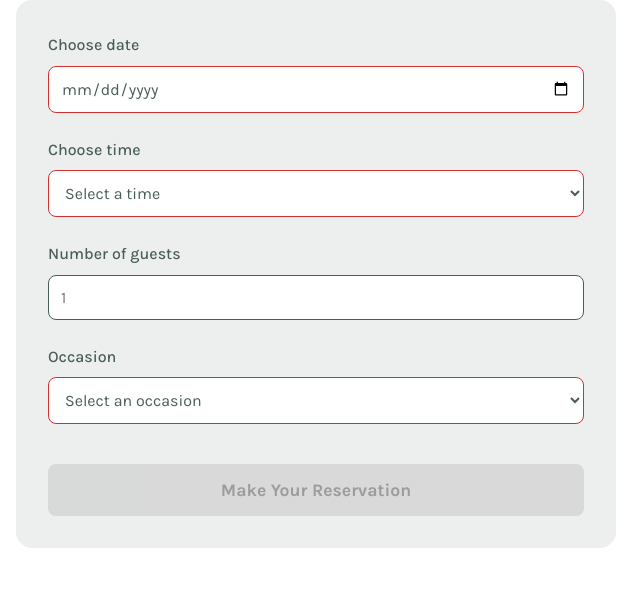
Test: BookingForm › JavaScript Validation › Shows error message when guests is more than 10
The image size is (633, 600).
In the number field labelled "Number of guests": (316, 297) 48,275 -> 584,320, type "11"
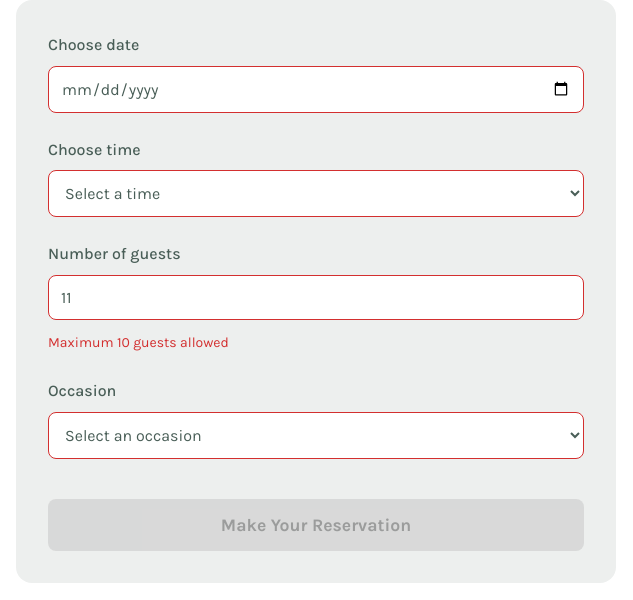
Now the text "Maximum 10 guests allowed" is shown, box 48,334 -> 229,351
